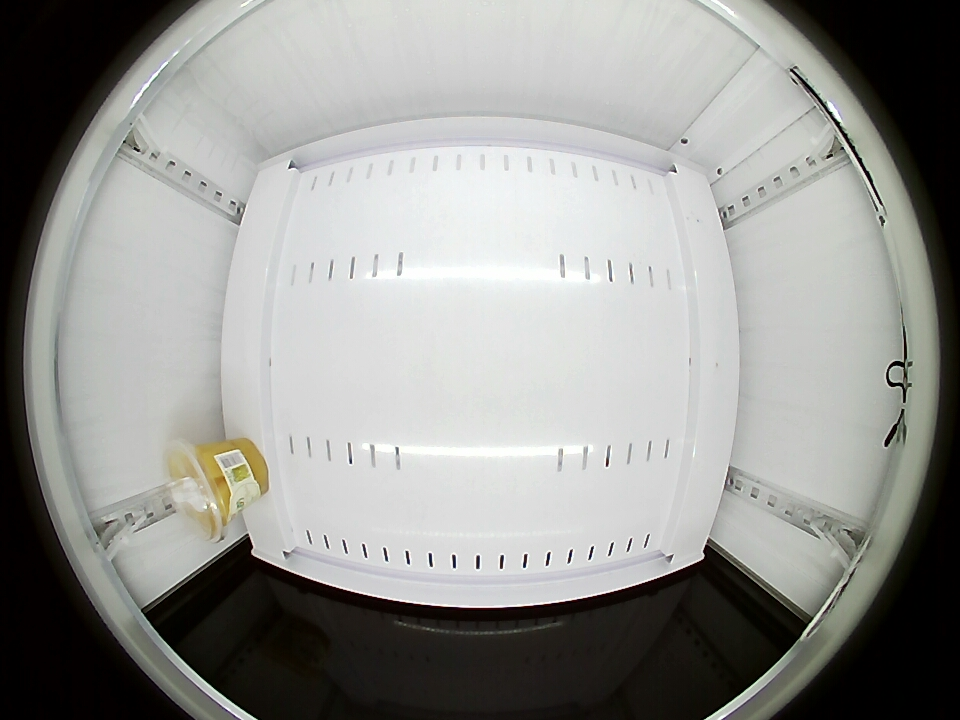xianguolao: (165, 440, 235, 540)
